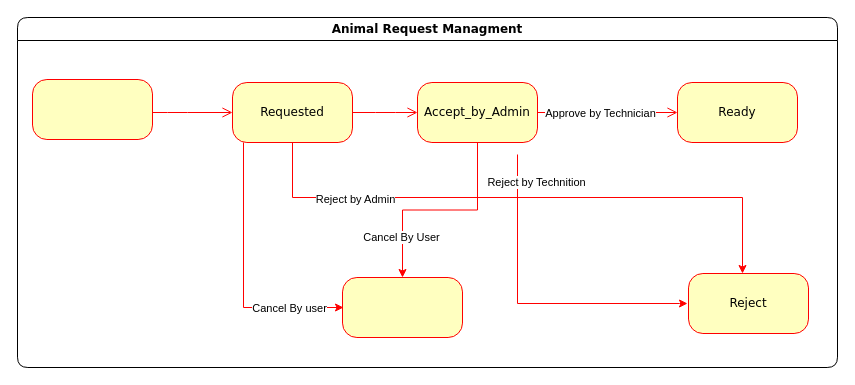
This 855x385 diagram has some shape labels left out. The box of each missing label's shape, as (x1, y1, x2, y2) in pixels:
Available: (32, 78, 152, 140)
Cancel: (342, 276, 462, 338)
